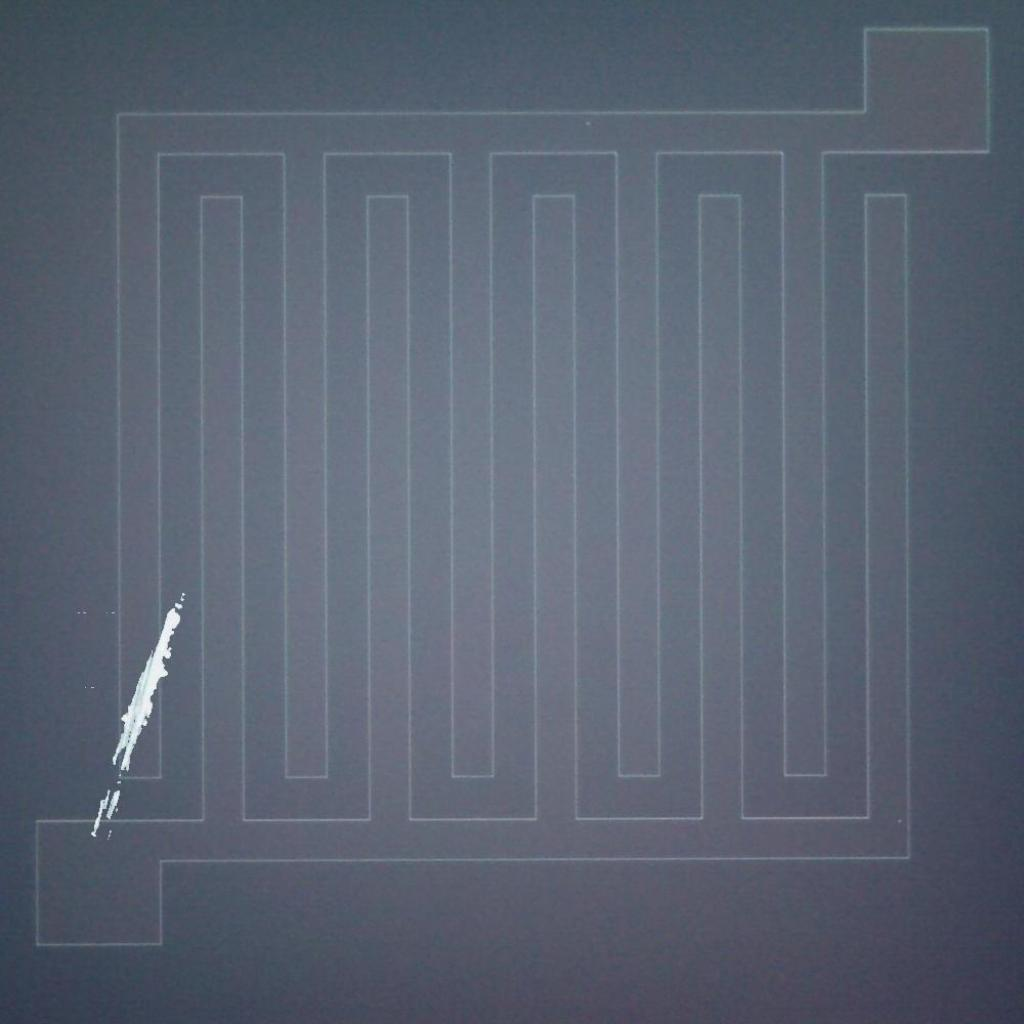scratch: (77, 585, 201, 850)
